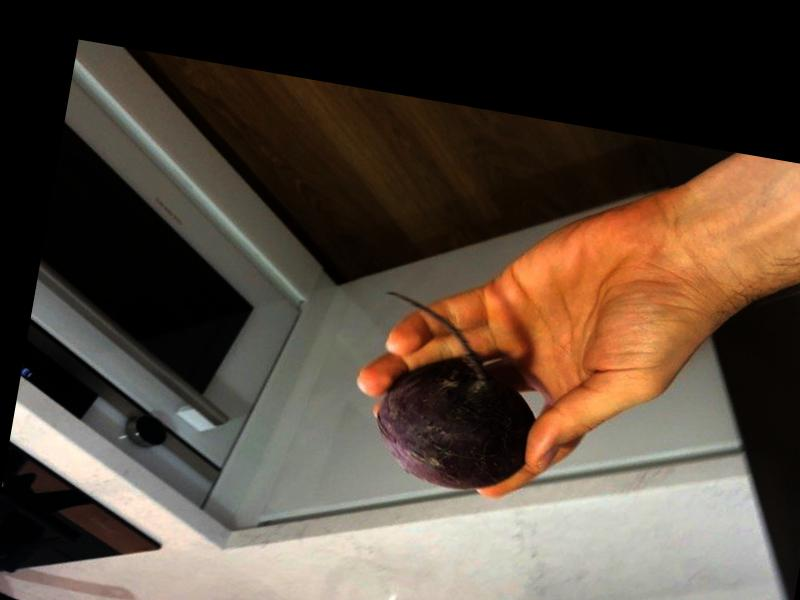Beet: (352, 289, 551, 500)
